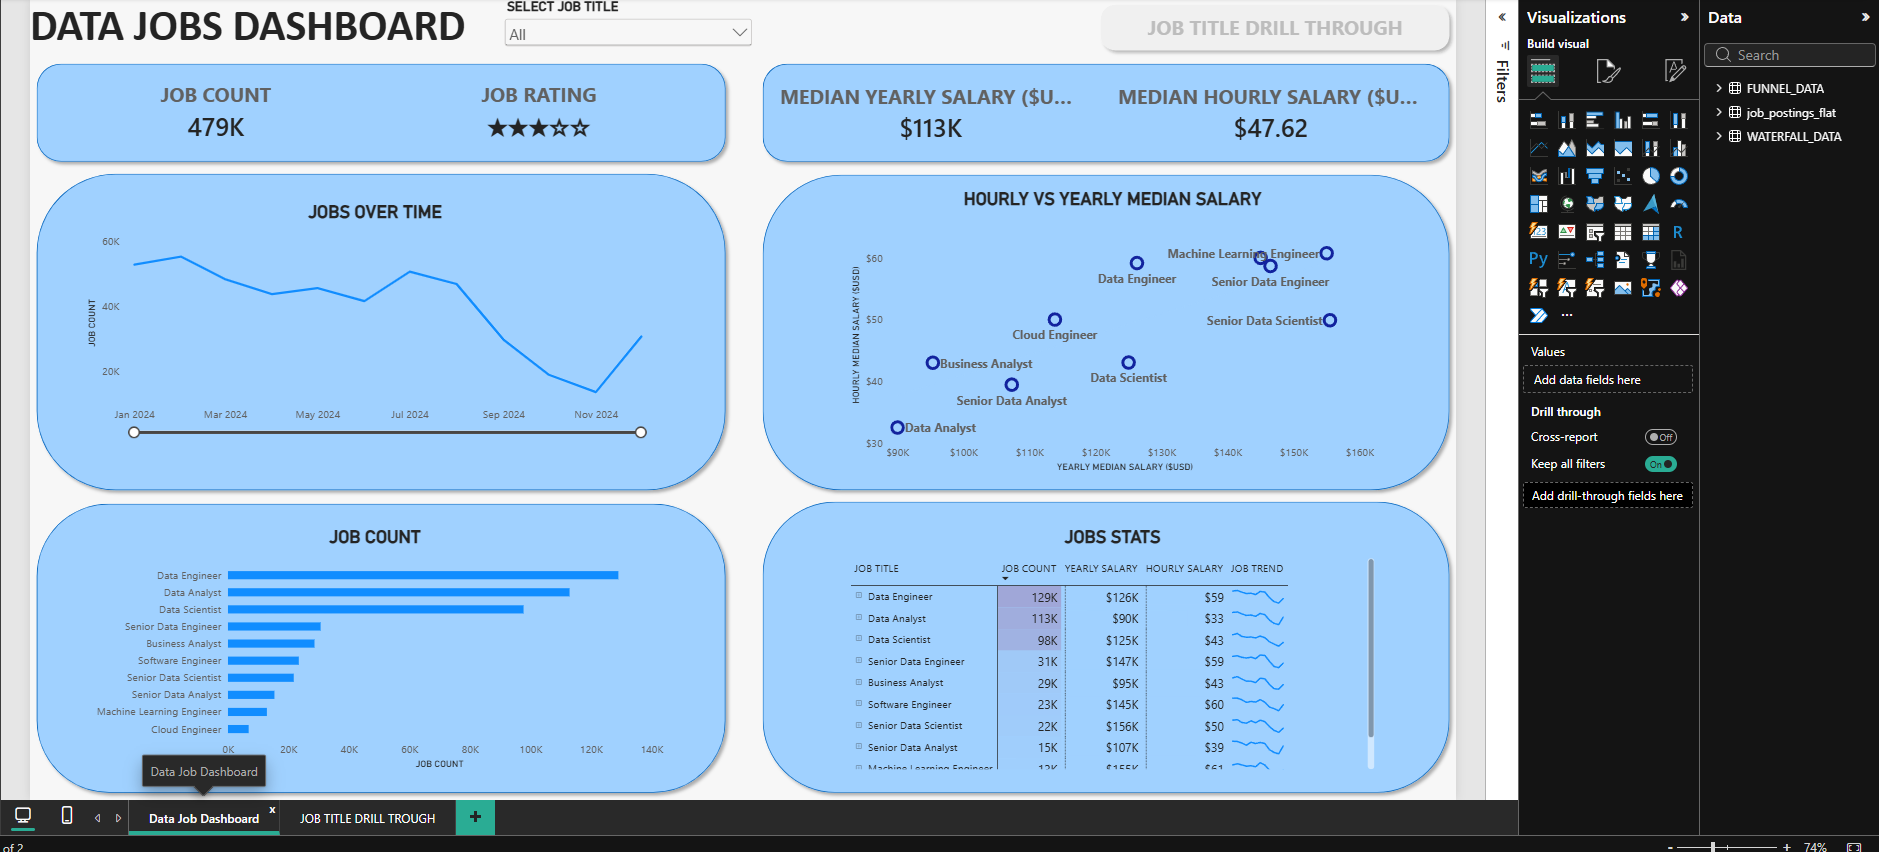

This screenshot's page, from the dashboard's own definition file:
{"tool":"powerbi","page":{"name":"Data Job Dashboard","canvas":[1920,1080],"ordinal":0},"visuals":[{"type":"shape","box":[0,228.6,945.7,444.3],"z":0,"group":"g1"},{"type":"group","id":"g1","title":"BACKGROUND","box":[0,80,1920,1000],"z":500},{"type":"textbox","box":[0,0,594.3,80],"z":1000},{"type":"shape","box":[977.1,80.2,942.9,150],"z":1000,"group":"g1"},{"type":"slicer","fields":{"Values":["job_postings_flat.job_title_short"]},"box":[634.3,0,342.9,80],"z":2000},{"type":"shape","box":[977.1,230,942.9,442.9],"z":2000,"group":"g1"},{"type":"cardVisual","fields":{"Data":["Median(job_postings_flat.salary_year_avg)"]},"box":[994.3,100,438.6,111.4],"z":3000},{"type":"shape","box":[0,672.9,945.7,407.1],"z":3000,"group":"g1"},{"type":"cardVisual","fields":{"Data":["Median(job_postings_flat.salary_hour_avg)"]},"box":[1448.6,100,444.3,111.4],"z":4000},{"type":"shape","box":[977.1,670,942.9,410],"z":4000,"group":"g1"},{"type":"cardVisual","fields":{"Data":["job_postings_flat.SALARY STAR RATING"]},"box":[472.9,94.3,425.7,117.1],"z":5000},{"type":"cardVisual","fields":{"Data":["CountNonNull(job_postings_flat.job_title_short)"]},"box":[28.6,94.3,444.3,117.1],"z":6000},{"type":"lineChart","title":"JOBS OVER TIME","fields":{"Category":["job_postings_flat.job_posted_date.Variation.Date Hierarchy.Year","job_postings_flat.job_posted_date.Variation.Date Hierarchy.Quarter","job_postings_flat.job_posted_date.Variation.Date Hierarchy.Month","job_postings_flat.job_posted_date.Variation.Date Hierarchy.Day"],"Y":["CountNonNull(job_postings_flat.job_title_short)"]},"box":[60,260,808.6,347.1],"z":7000},{"type":"barChart","title":"JOB COUNT","fields":{"Category":["job_postings_flat.job_title_short"],"Y":["CountNonNull(job_postings_flat.job_title_short)"]},"box":[60,697.1,808.6,357.1],"z":8000},{"type":"scatterChart","title":"HOURLY VS YEARLY MEDIAN SALARY ","fields":{"Series":["job_postings_flat.job_title_short"],"X":["Median(job_postings_flat.salary_year_avg)"],"Y":["Median(job_postings_flat.salary_hour_avg)"]},"box":[1090,242.9,737.1,412.9],"z":9000},{"type":"shape","box":[0,80,945.7,150],"z":10000,"group":"g1"},{"type":"pivotTable","title":"JOBS STATS","fields":{"Rows":["job_postings_flat.job_title_short","job_postings_flat.job_posted_date.Variation.Date Hierarchy.Quarter"],"Values":["CountNonNull(job_postings_flat.job_title_short)","Median(job_postings_flat.salary_year_avg)","Median(job_postings_flat.salary_hour_avg)","SparklineData(CountNonNull(job_postings_flat.job_title_short)_[job_postings_flat.job_posted_date.Variation.Date Hierarch"]},"box":[1090,697.1,737.1,357.1],"z":10000},{"type":"actionButton","title":"JOB TITLE DRILL THROUGH","box":[1432.8,0,487.5,79.5],"z":10001}]}

Visuals, with their boxes on the page's 1920x1080 design canvas (x1, y1, x2, y2). These are canvas units, not pixel positions in the 1879x852 screenshot, which may show the page scaled, cropped or inside an application window:
shape: {"left": 0, "top": 229, "right": 946, "bottom": 673}
"BACKGROUND" group: {"left": 0, "top": 80, "right": 1920, "bottom": 1080}
textbox: {"left": 0, "top": 0, "right": 594, "bottom": 80}
shape: {"left": 977, "top": 80, "right": 1920, "bottom": 230}
slicer - job_postings_flat.job_title_short: {"left": 634, "top": 0, "right": 977, "bottom": 80}
shape: {"left": 977, "top": 230, "right": 1920, "bottom": 673}
cardVisual - Median(job_postings_flat.salary_year_avg): {"left": 994, "top": 100, "right": 1433, "bottom": 211}
shape: {"left": 0, "top": 673, "right": 946, "bottom": 1080}
cardVisual - Median(job_postings_flat.salary_hour_avg): {"left": 1449, "top": 100, "right": 1893, "bottom": 211}
shape: {"left": 977, "top": 670, "right": 1920, "bottom": 1080}
cardVisual - job_postings_flat.SALARY STAR RATING: {"left": 473, "top": 94, "right": 899, "bottom": 211}
cardVisual - CountNonNull(job_postings_flat.job_title_short): {"left": 29, "top": 94, "right": 473, "bottom": 211}
"JOBS OVER TIME" lineChart: {"left": 60, "top": 260, "right": 869, "bottom": 607}
"JOB COUNT" barChart: {"left": 60, "top": 697, "right": 869, "bottom": 1054}
"HOURLY VS YEARLY MEDIAN SALARY " scatterChart: {"left": 1090, "top": 243, "right": 1827, "bottom": 656}
shape: {"left": 0, "top": 80, "right": 946, "bottom": 230}
"JOBS STATS" pivotTable: {"left": 1090, "top": 697, "right": 1827, "bottom": 1054}
"JOB TITLE DRILL THROUGH" actionButton: {"left": 1433, "top": 0, "right": 1920, "bottom": 80}
